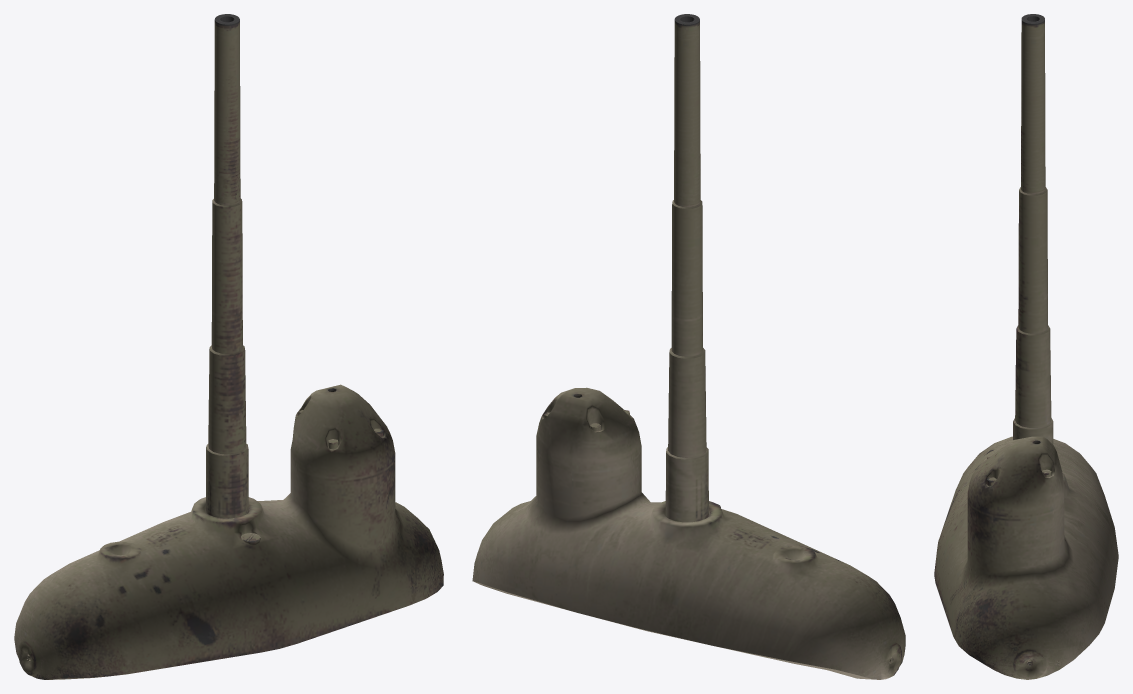
The model's file is Gun_01.glb.
The picture shows the model from 3 angles, left to right: view 1: azimuth 30°, elevation 25°; view 2: azimuth 150°, elevation 25°; view 3: azimuth 270°, elevation 25°; orthographic projection. The views are drawn at different scales.
Parts seen in each view (by area): view 1: set_0_group_0; view 2: set_0_group_0; view 3: set_0_group_0.
Part boxes in pixels (x1=…): set_0_group_0: x1=14, y1=14, x2=443, y2=679; set_0_group_0: x1=472, y1=14, x2=905, y2=679; set_0_group_0: x1=934, y1=14, x2=1118, y2=679.
Bounding box in the file's own units: 1.08 × 1.56 × 0.4548.
Materials: 1 (1 with a texture image).
